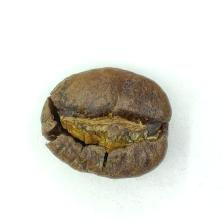NG: (45, 88, 164, 167)
